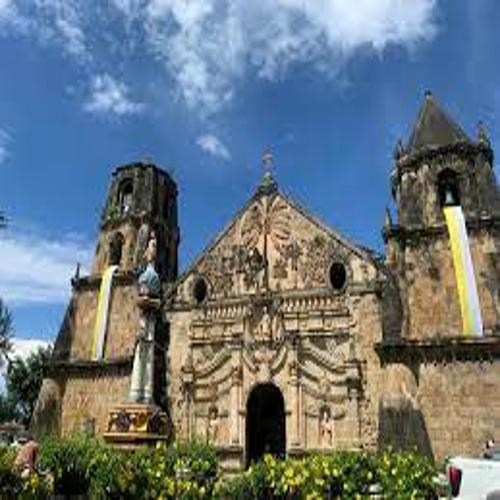Miagao Church: (44, 89, 500, 454)
